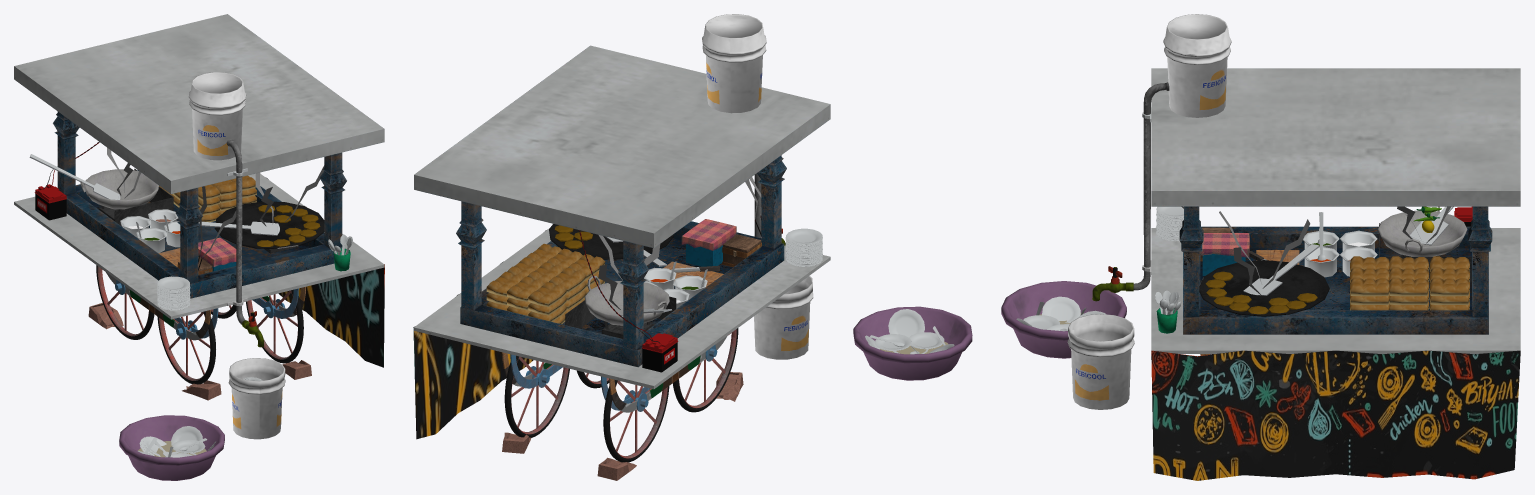
Rendered from Food_Ventor_Polish.fbx.
3 views of the same model, side by side, from view 1: azimuth 30°, elevation 25°; view 2: azimuth 150°, elevation 25°; view 3: azimuth 270°, elevation 25° (orthographic). The views are drawn at different scales.
Parts seen in each view (by area): view 1: stall_roof, stall_platform, stall_base, banner, bucket2, tub, buket1, Cylinder, Cylinder_001, pillar1_002, pillar1, wheelJoint_008 (+18 smaller); view 2: stall_roof, stall_platform, stall_base, banner, bucket2, tub, buket1, pillar1_001, pillar1_003, Cylinder_001, wheelJoint_006, wheelJoint_005 (+12 smaller); view 3: stall_roof, banner, stall_platform, stall_base, bucket2, buket1, tub, Cylinder, Cylinder_001, pillar1_001, pillar1, water_pipe (+10 smaller).
Part boxes in pixels (x1,y1,x2,y2): stall_roof: (14, 14, 384, 194); stall_platform: (14, 173, 384, 319); stall_base: (65, 170, 342, 298); banner: (266, 177, 384, 367); bucket2: (188, 72, 246, 160); tub: (119, 415, 224, 480); buket1: (228, 358, 285, 439); Cylinder: (214, 201, 324, 248); Cylinder_001: (84, 169, 158, 209); pillar1_002: (175, 188, 202, 283); pillar1: (319, 152, 346, 249); wheelJoint_008: (157, 311, 215, 384); stall_roof: (414, 45, 830, 248); stall_platform: (414, 228, 830, 389); stall_base: (460, 221, 784, 367); banner: (413, 230, 546, 439); bucket2: (702, 14, 766, 113); tub: (853, 306, 972, 380); buket1: (754, 276, 813, 359); pillar1_001: (456, 201, 486, 310); pillar1_003: (618, 241, 648, 349); Cylinder_001: (584, 281, 669, 325); wheelJoint_006: (603, 380, 669, 462); wheelJoint_005: (504, 355, 569, 437); stall_roof: (1151, 68, 1520, 206); banner: (1151, 350, 1520, 480); stall_platform: (1151, 228, 1520, 353); stall_base: (1183, 226, 1488, 334); bucket2: (1163, 14, 1231, 117); buket1: (1067, 314, 1134, 409); tub: (1001, 281, 1126, 358); Cylinder: (1199, 260, 1329, 316); Cylinder_001: (1377, 210, 1467, 256); pillar1_001: (1468, 206, 1492, 317); pillar1: (1179, 206, 1203, 317); water_pipe: (1133, 82, 1169, 290).
Size of the model in its own units: 83.83 by 85.76 by 108.
3 materials, 3 textured.
